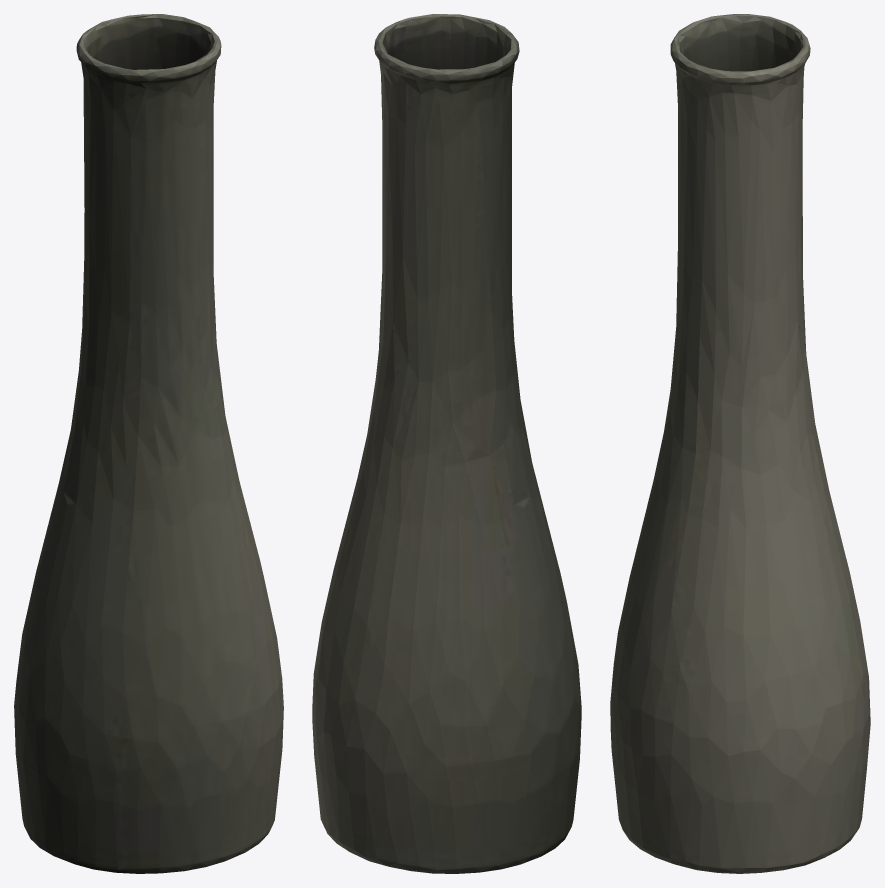
The model's file is VASE.fbx.
3 renders of one model, left to right at view 1: azimuth 30°, elevation 25°; view 2: azimuth 150°, elevation 25°; view 3: azimuth 270°, elevation 25°, orthographic.
Visible parts, largest first — view 1: Cylinder; view 2: Cylinder; view 3: Cylinder.
Boxes of the visible parts, x1,y1,x2,y2 form: Cylinder: [14, 14, 283, 873]; Cylinder: [312, 14, 581, 873]; Cylinder: [610, 14, 870, 873].
Size of the model in its own units: 162 by 518 by 155.
Materials: 1 (1 with a texture image).
